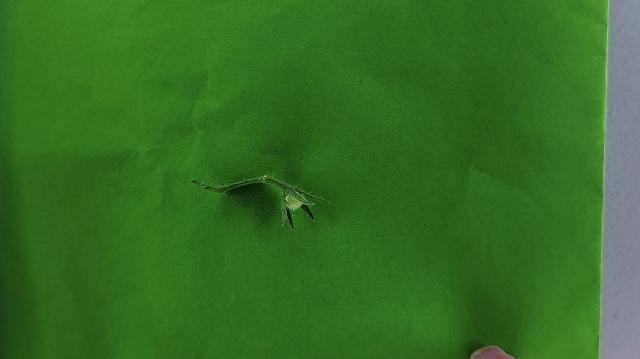Fruit Bud: (281, 188, 317, 231)
